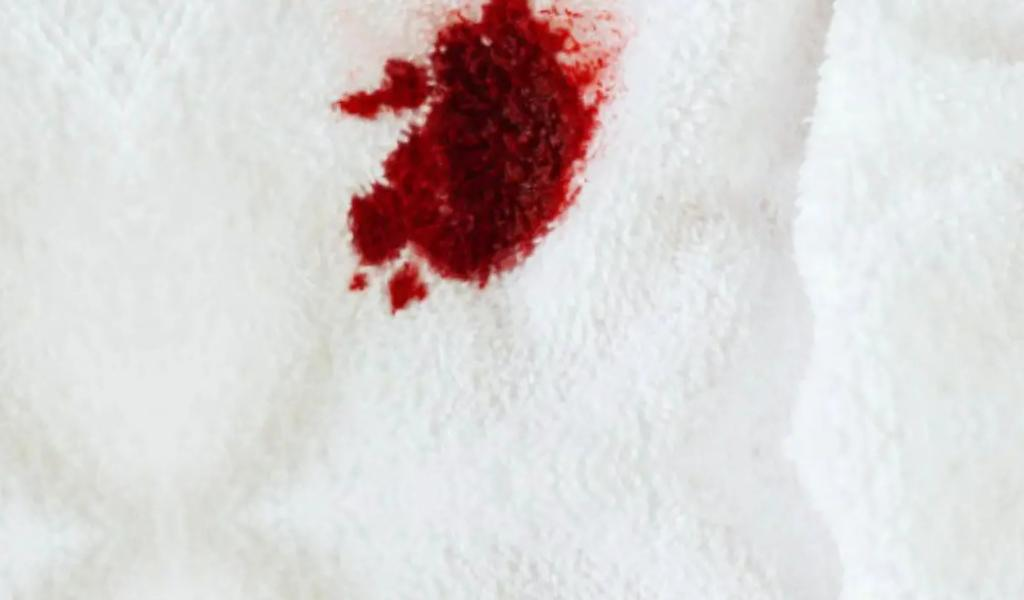stain: (331, 0, 634, 318)
